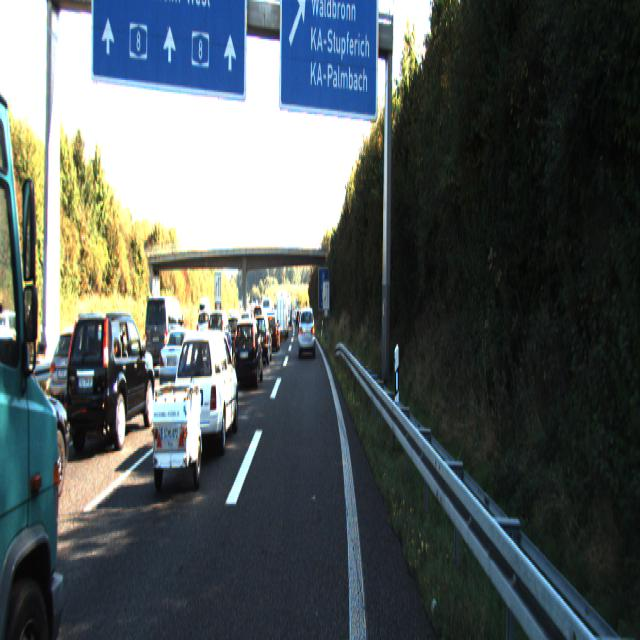Car: (0, 0, 83, 639), (0, 330, 76, 538), (65, 308, 156, 456), (171, 321, 240, 462), (147, 376, 205, 499), (144, 293, 187, 374), (156, 323, 202, 395), (231, 314, 263, 387), (206, 309, 233, 370), (249, 312, 272, 364), (298, 304, 315, 356), (275, 291, 288, 337)
